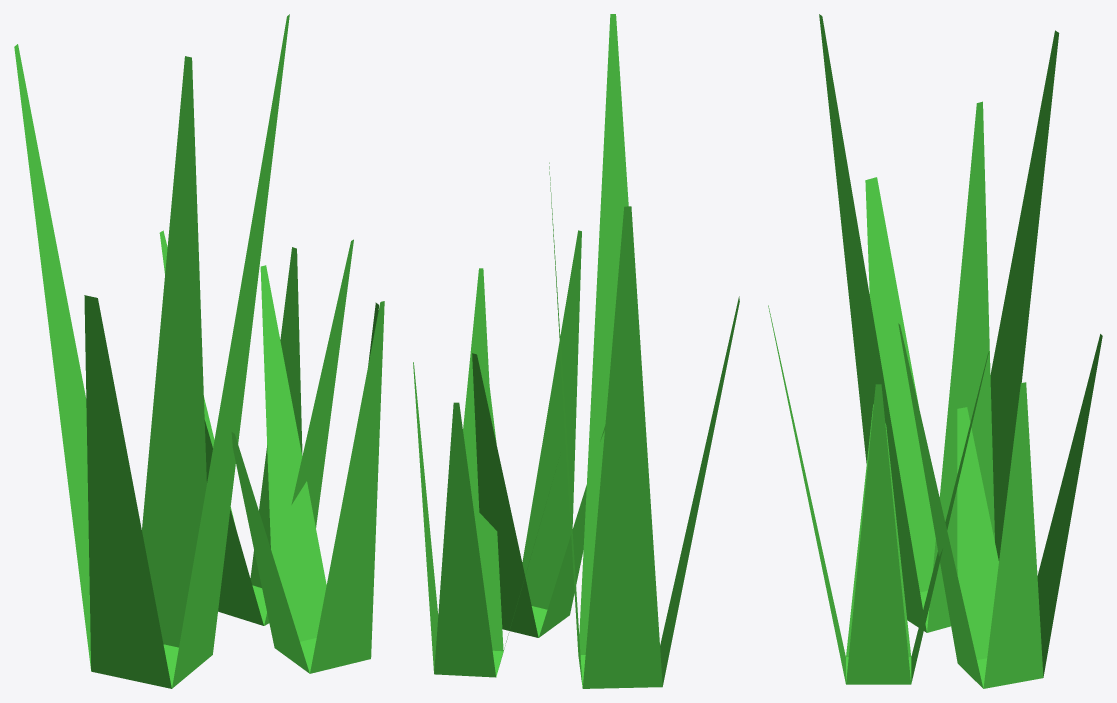
The model's file is grass.glb.
The picture shows the model from 3 angles, left to right: view 1: azimuth 30°, elevation 25°; view 2: azimuth 150°, elevation 25°; view 3: azimuth 270°, elevation 25°; orthographic projection. The views are drawn at different scales.
Parts seen in each view (by area): view 1: grass-1; view 2: grass-1; view 3: grass-1.
Part boxes in pixels (x1,y1,x2,y2): grass-1: (14, 14, 384, 688); grass-1: (413, 14, 739, 688); grass-1: (768, 14, 1102, 688).
Bounding box in the file's own units: 0.2179 × 0.4801 × 0.2324.
